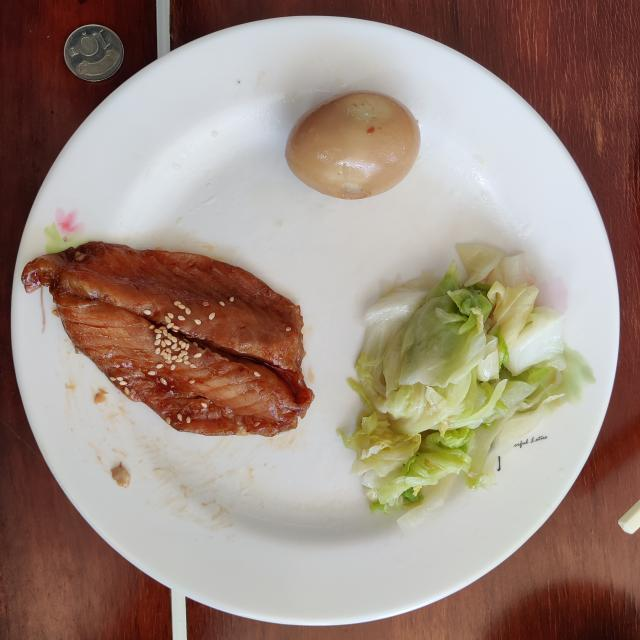Kabayaki sea bream fillet: (21, 241, 314, 436)
cabbage: (342, 244, 566, 511)
coin: (64, 25, 124, 81)
soy egg: (285, 91, 420, 199)
